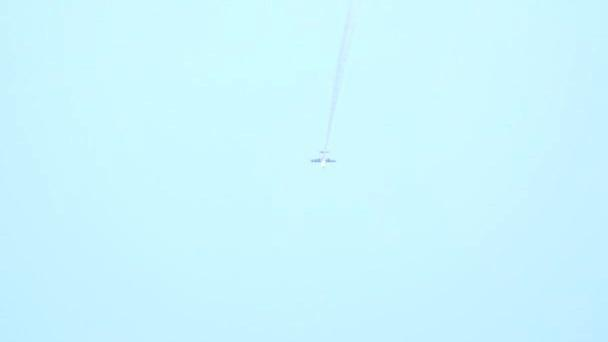Plane: (298, 148, 347, 173)
